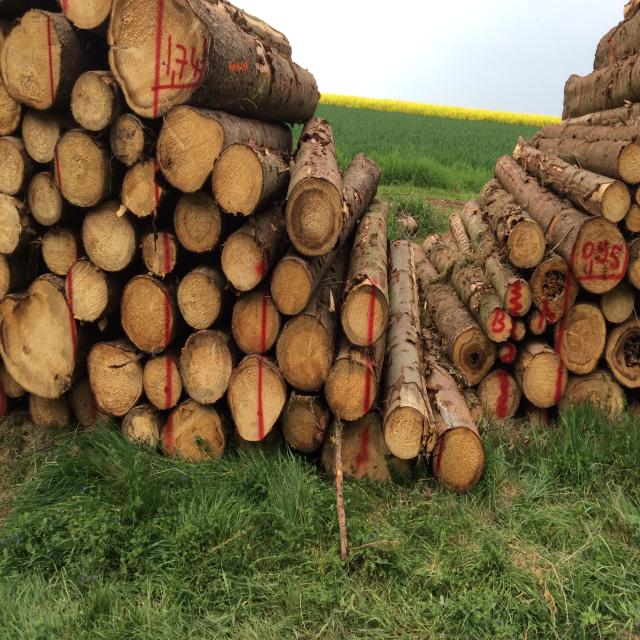wood-log: (109, 0, 208, 120), (0, 274, 76, 398), (159, 106, 229, 191), (0, 9, 58, 109), (226, 356, 286, 442), (276, 314, 335, 391), (54, 130, 112, 208), (180, 330, 237, 406), (571, 220, 628, 295), (122, 275, 176, 354), (86, 339, 142, 415), (83, 203, 140, 273), (289, 187, 345, 258), (161, 401, 226, 462), (552, 306, 606, 376), (212, 148, 264, 218), (326, 358, 377, 422), (230, 292, 281, 356), (438, 427, 488, 492), (341, 286, 390, 349), (177, 191, 225, 252), (282, 396, 332, 454), (531, 264, 580, 323), (222, 231, 269, 291), (521, 348, 570, 405), (70, 73, 115, 134), (178, 269, 223, 329), (65, 260, 108, 322), (270, 257, 312, 315), (121, 161, 163, 217), (479, 366, 520, 419), (142, 356, 182, 410), (381, 407, 422, 458), (18, 113, 59, 164), (25, 173, 63, 227), (108, 113, 144, 166), (123, 404, 162, 452), (143, 230, 181, 277), (41, 227, 77, 276), (508, 221, 545, 268), (615, 320, 640, 388), (58, 0, 116, 29), (0, 135, 28, 194), (70, 379, 103, 427), (600, 284, 635, 323), (28, 394, 68, 427), (0, 192, 20, 253), (0, 80, 20, 136), (604, 183, 632, 222), (0, 365, 19, 418), (507, 280, 533, 318), (486, 308, 514, 342), (619, 348, 640, 388), (620, 143, 640, 184), (625, 326, 640, 379), (628, 247, 640, 290), (498, 341, 519, 365), (0, 252, 10, 300), (625, 204, 640, 234), (528, 313, 546, 334), (0, 384, 8, 422), (512, 318, 526, 339), (634, 183, 640, 202)
